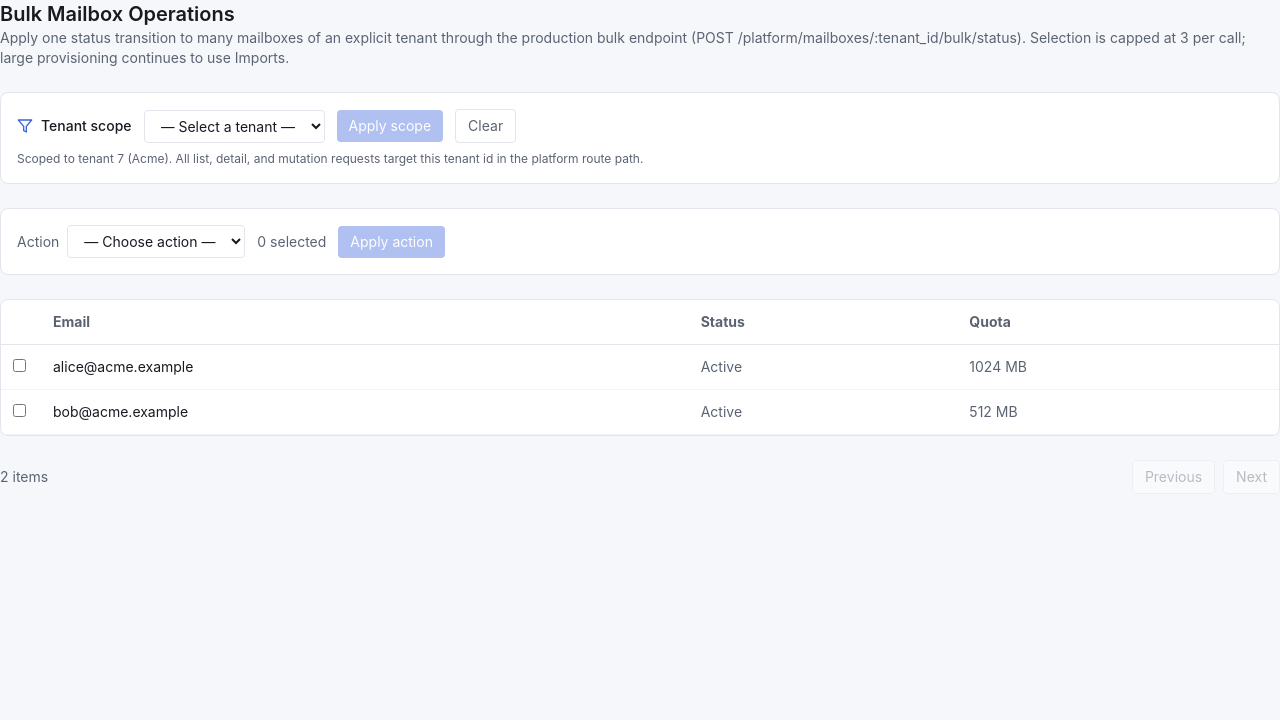
Test case: features/platform/bulk-mailboxes › explains partial-vs-atomic semantics exactly as returned (per-row failures)
The image size is (1280, 720).
Check: the text "alice@acme.example" is shown, box [41,344,689,390]
Click the checkbox named "Select mailbox 101". click: (20, 366)
box: [13,359,26,372]
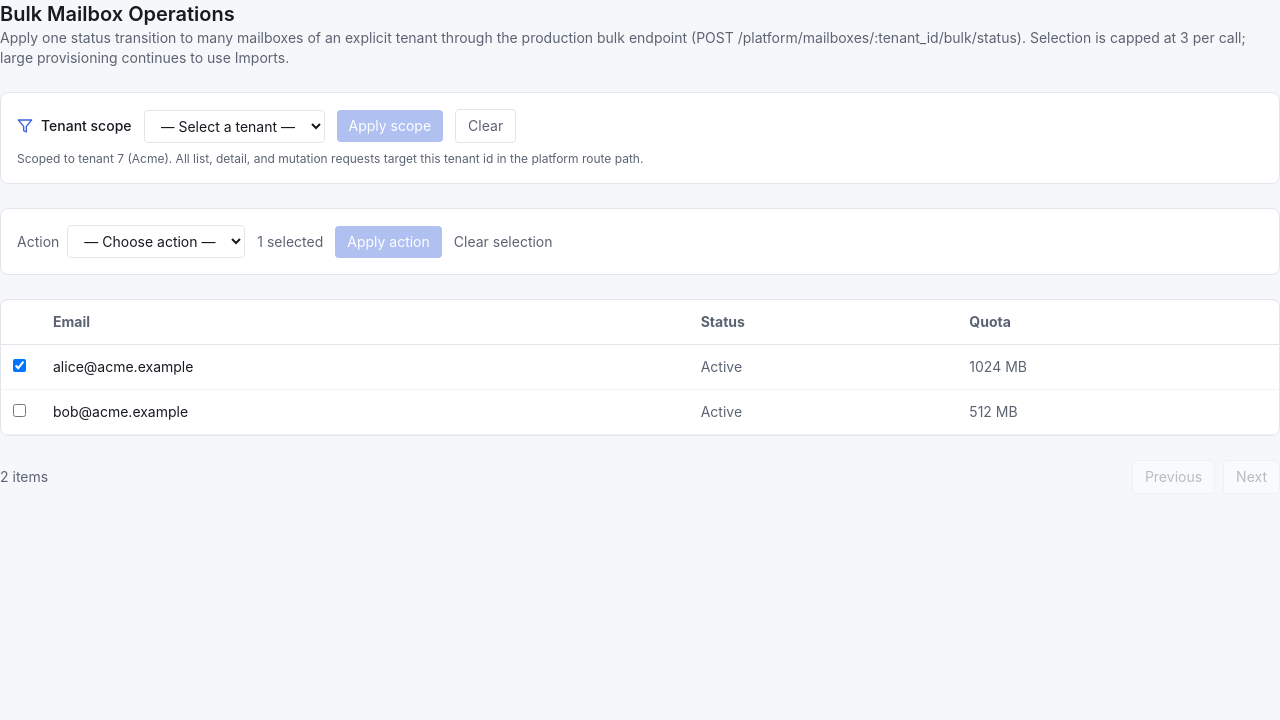
Click the checkbox named "Select mailbox 102". click: (20, 410)
box: [13,404,26,417]
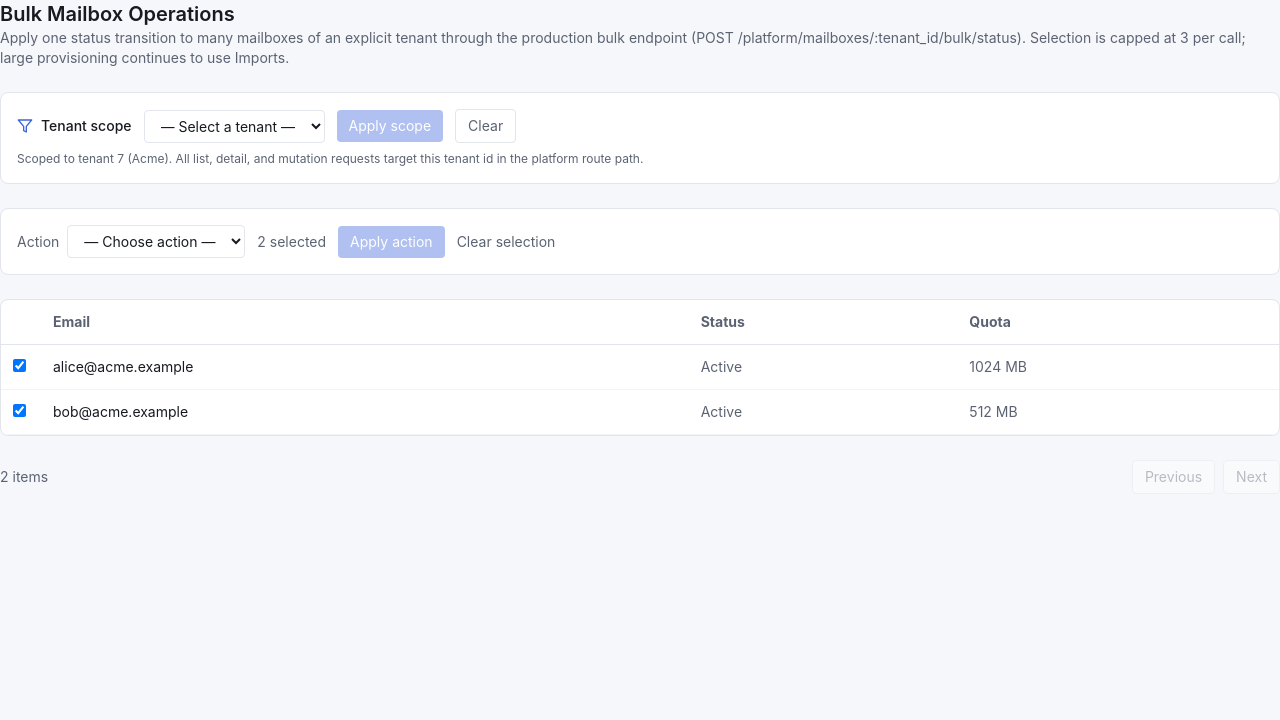
Select "Soft-delete" in the dropdown named "Bulk action". click: (156, 242)
box: [67,225,245,258]
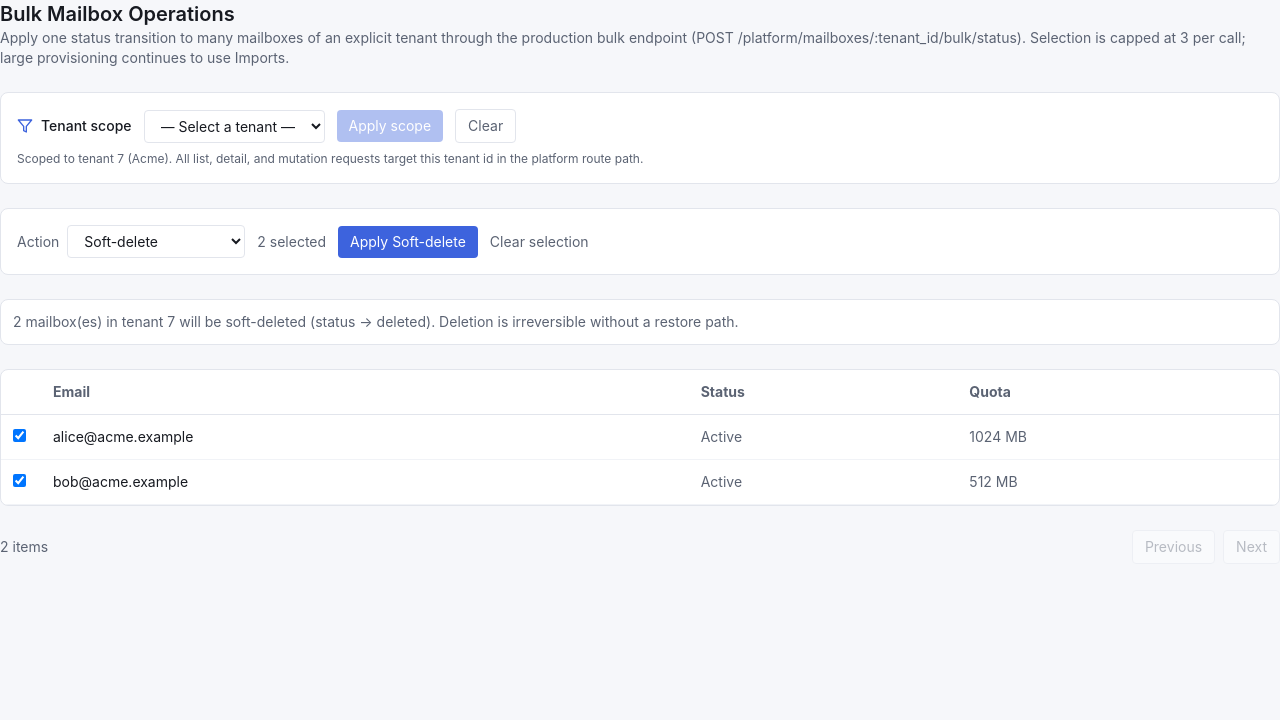
Click the button "Apply Soft-delete". click: (408, 242)
box: [338,226,478,258]
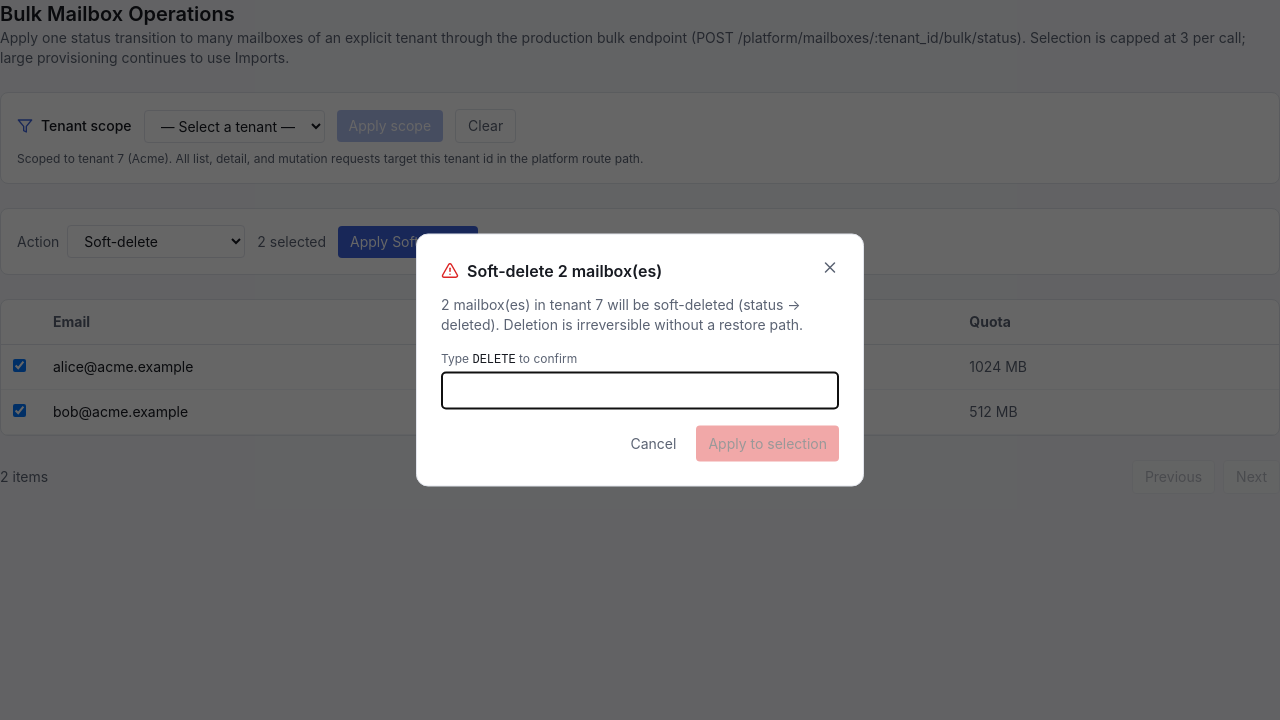
Check: the button "Apply to selection" is disabled, box [696,426,839,462]
Type "DELETE" into the field labelled "Type DELETE to confirm". click: (640, 390)
box: [441,372,839,410]
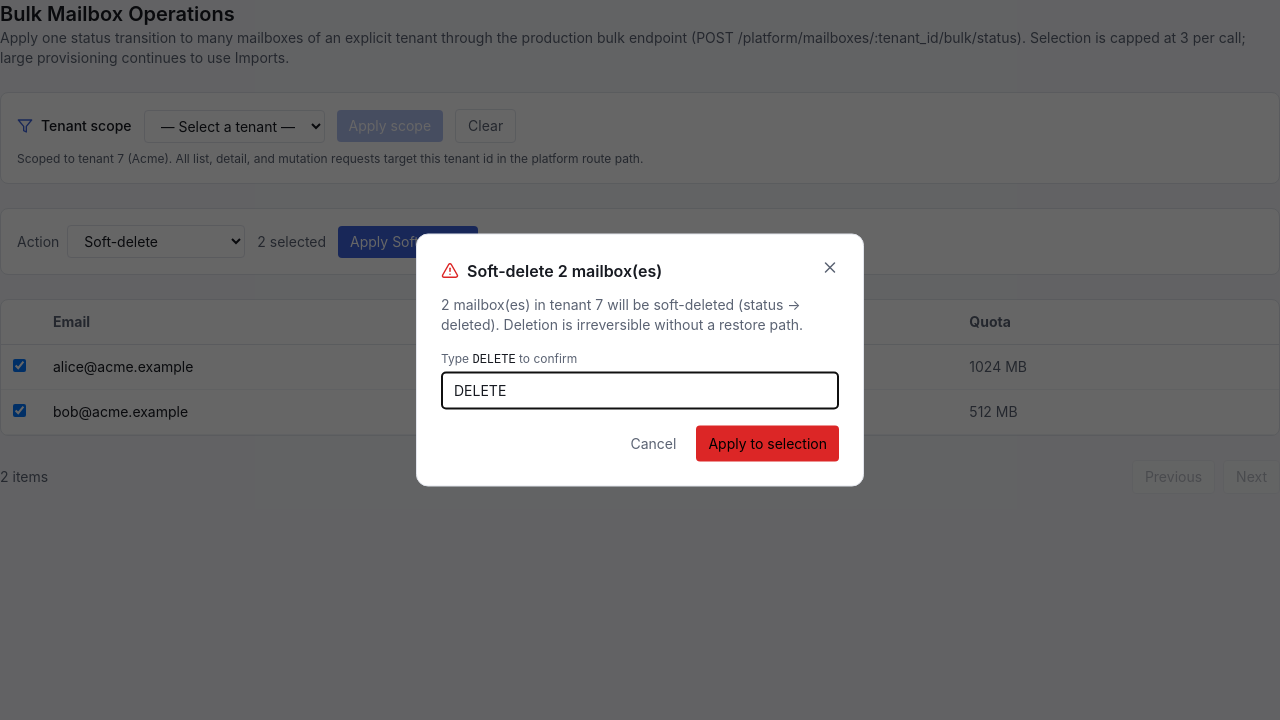
Check: the button "Apply to selection" is enabled
Click the button "Apply to selection". click: (768, 444)
box: [696,426,839,462]
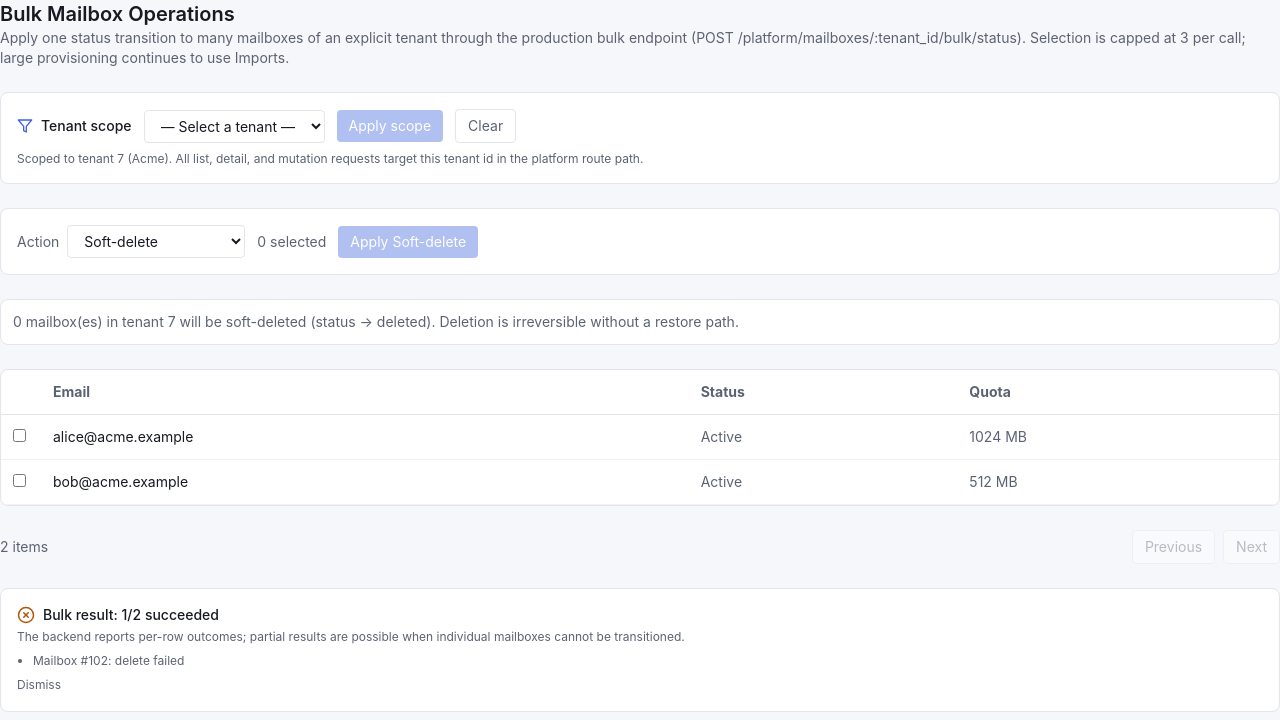
Check: the text "Bulk result: 1/2 succeeded" is shown, box [17,606,219,624]
Check: the list item "Mailbox #102: delete failed" is shown, box [33,653,184,668]
Check: the text "partial results are possible" is shown, box [17,629,685,644]
